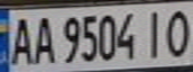0: (97, 11, 118, 62)
4: (115, 8, 142, 61)
5: (78, 11, 100, 63)
9: (57, 11, 81, 64)
A: (3, 14, 36, 66), (30, 12, 57, 65)
I: (139, 7, 169, 60)
O: (160, 5, 193, 57)
